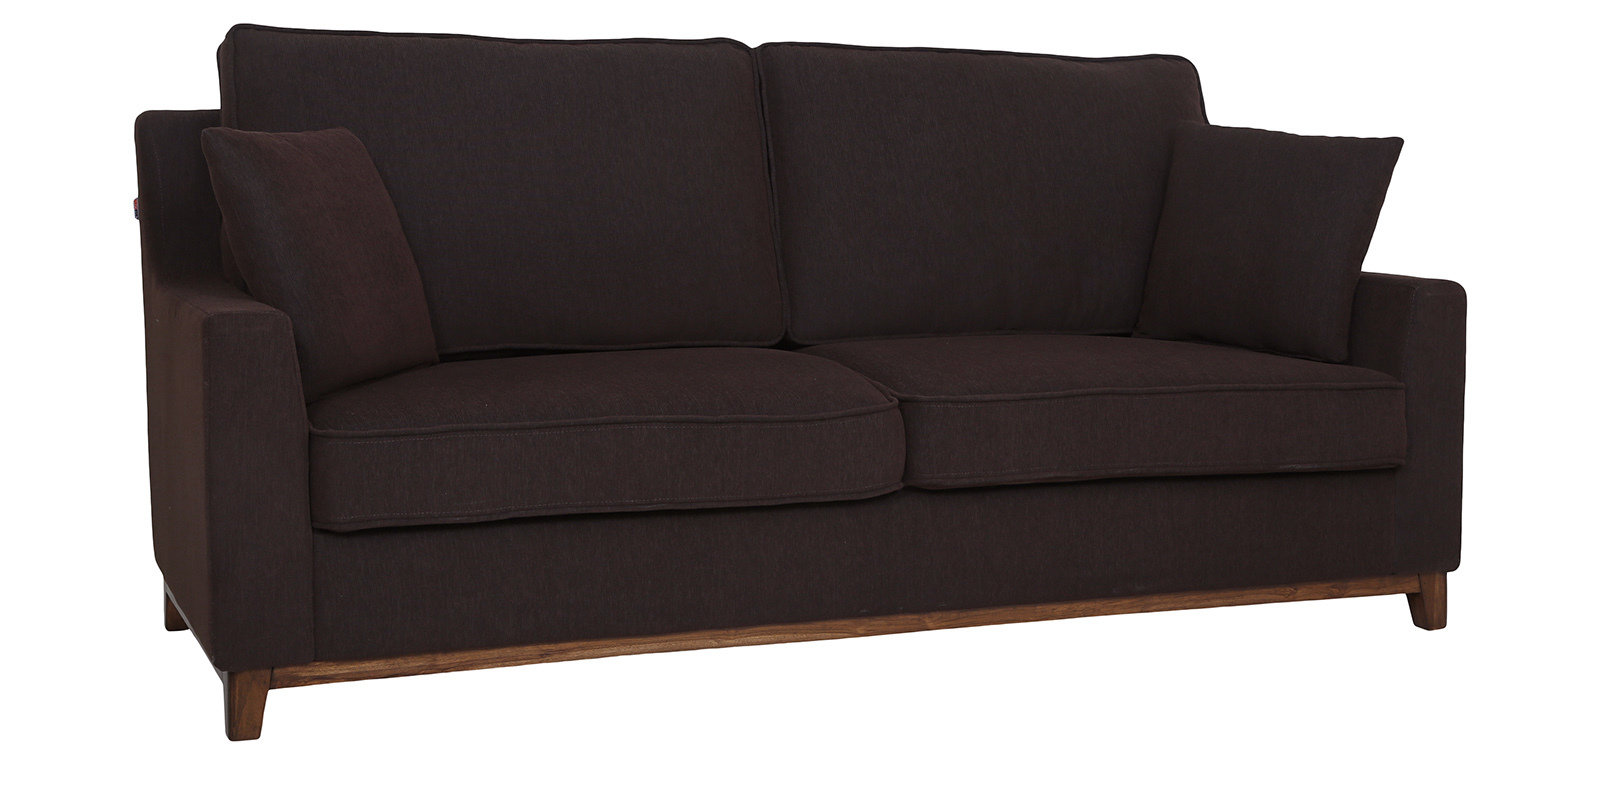Diego Three Seater Sofa in Chestnut Brown Colour by CasaCraft: (99, 16, 1476, 707)
